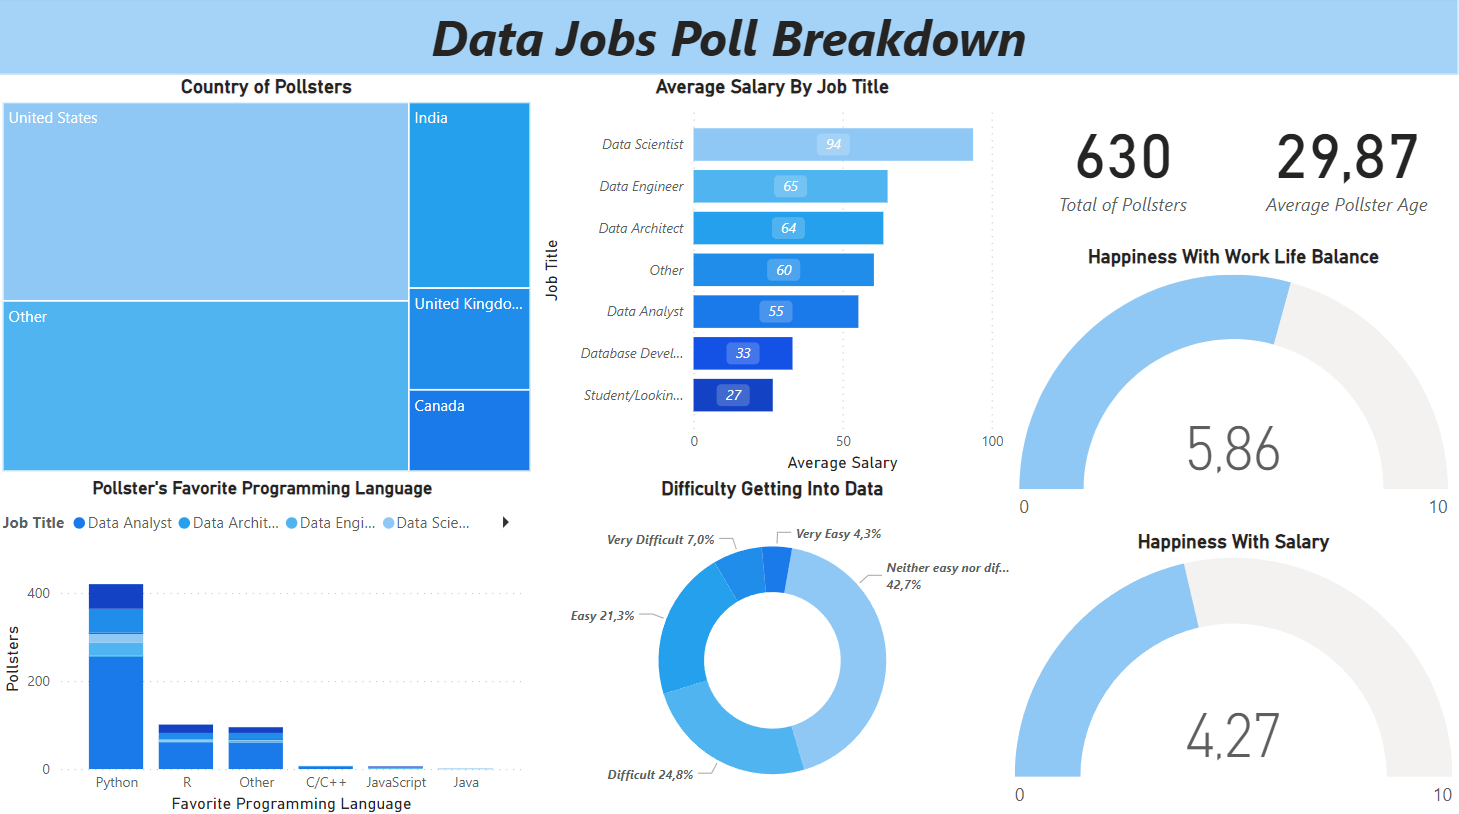

What the dashboard file says about the page in this screenshot:
{"tool":"powerbi","page":{"name":"Página 1","canvas":[1280,720],"ordinal":0},"visuals":[{"type":"textbox","box":[0,0,1280,68.3],"z":0},{"type":"card","fields":{"Values":["CountNonNull(Data Professional Survey.Unique ID)"]},"box":[886.2,68.2,199.4,149.6],"z":1000},{"type":"card","fields":{"Values":["Avg(Data Professional Survey.Q10 - Current Age)"]},"box":[1085.7,68.2,194.3,149.6],"z":2000},{"type":"barChart","title":"Average Salary By Job Title","fields":{"Category":["Data Professional Survey.Q1 - Which Title Best Fits your Current Role?.1"],"Y":["Avg(Data Professional Survey.Average Salary)"],"Series":["Data Professional Survey.Q1 - Which Title Best Fits your Current Role?.1"]},"box":[472.1,68.2,414.1,352.1],"z":3000},{"type":"columnChart","title":"Pollster''s Favorite Programming Language","fields":{"Category":["Data Professional Survey.Q5 - Favorite Programming Language.1"],"Y":["CountNonNull(Data Professional Survey.Unique ID)"],"Series":["Data Professional Survey.Q1 - Which Title Best Fits your Current Role?.1"]},"box":[0,420.2,465,299.1],"z":4000},{"type":"treemap","title":"Country of Pollsters","fields":{"Group":["Data Professional Survey.Q11 - Which Country do you live in?.1"],"Values":["CountNonNull(Data Professional Survey.Q11 - Which Country do you live in?.1)"]},"box":[0,68.2,472.1,352.1],"z":5000},{"type":"gauge","title":"Happiness With Work Life Balance","fields":{"Y":["Avg(Data Professional Survey.Q6 - How Happy are you in your Current Position with the following? (Coworkers))"],"MinValue":["Min(Data Professional Survey.Q6 - How Happy are you in your Current Position with the following? (Coworkers))"],"MaxValue":["Max(Data Professional Survey.Q6 - How Happy are you in your Current Position with the following? (Coworkers))"]},"box":[886.6,217.4,393.4,249.7],"z":6000},{"type":"gauge","title":"Happiness With Salary","fields":{"Y":["Avg(Data Professional Survey.Q6 - How Happy are you in your Current Position with the following? (Salary))"],"MinValue":["Min(Data Professional Survey.Q6 - How Happy are you in your Current Position with the following? (Salary))"],"MaxValue":["Max(Data Professional Survey.Q6 - How Happy are you in your Current Position with the following? (Salary))"]},"box":[886.6,467.1,393.4,252.4],"z":7000},{"type":"donutChart","title":"Difficulty Getting Into Data","fields":{"Category":["Data Professional Survey.Q7 - How difficult was it for you to break into Data?"],"Y":["CountNonNull(Data Professional Survey.Q7 - How difficult was it for you to break into Data?)"]},"box":[472.1,420.2,414.1,300.2],"z":8000}]}

Visuals, with their boxes in screenshot pixels (x1, y1, x2, y2), scaled from the page's 1280x720 canvas onto the 1459x814 screenshot:
textbox: detection(0, 0, 1458, 77)
card - CountNonNull(Data Professional Survey.Unique ID): detection(1010, 77, 1237, 246)
card - Avg(Data Professional Survey.Q10 - Current Age): detection(1238, 77, 1458, 246)
"Average Salary By Job Title" barChart: detection(538, 77, 1010, 475)
"Pollster''s Favorite Programming Language" columnChart: detection(0, 475, 530, 813)
"Country of Pollsters" treemap: detection(0, 77, 538, 475)
"Happiness With Work Life Balance" gauge: detection(1011, 246, 1458, 528)
"Happiness With Salary" gauge: detection(1011, 528, 1458, 813)
"Difficulty Getting Into Data" donutChart: detection(538, 475, 1010, 813)
